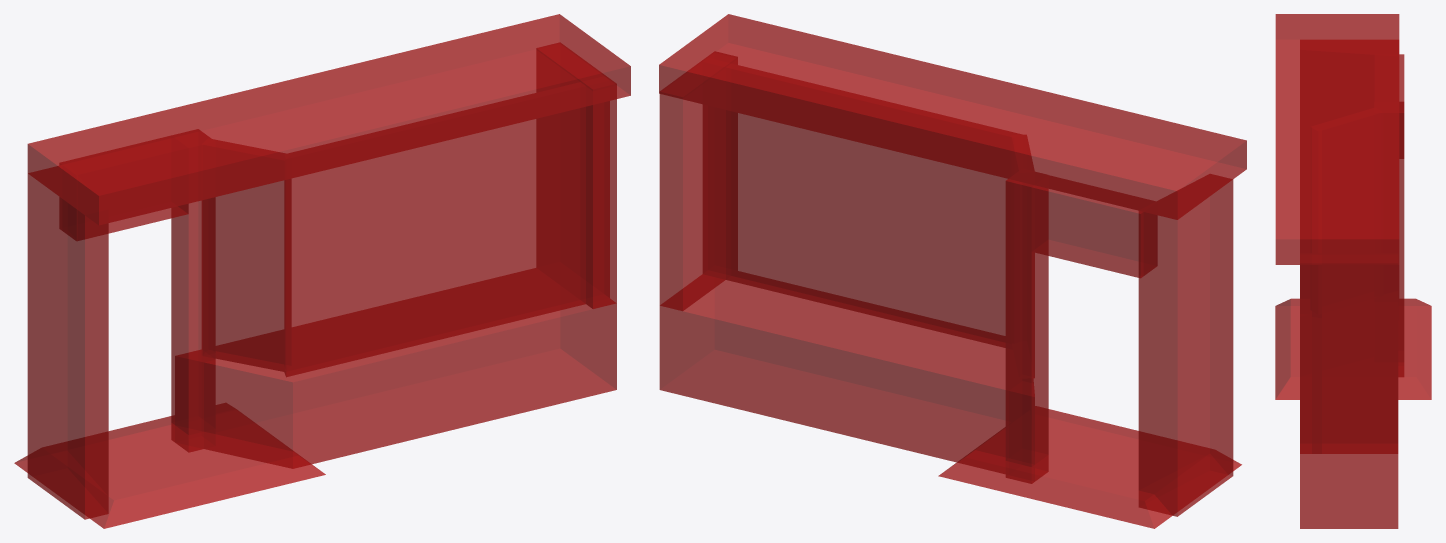
File: SM_Bld_ShopFront_07_Collision.fbx
3 views of the same model, side by side, from view 1: azimuth 30°, elevation 25°; view 2: azimuth 150°, elevation 25°; view 3: azimuth 270°, elevation 25° (orthographic). The views are drawn at different scales.
Visible parts, largest first — view 1: SM_Bld_ShopFront_07_Collision; view 2: SM_Bld_ShopFront_07_Collision; view 3: SM_Bld_ShopFront_07_Collision.
Part boxes in pixels (bbox=[...]): SM_Bld_ShopFront_07_Collision: bbox=[14, 14, 630, 528]; SM_Bld_ShopFront_07_Collision: bbox=[659, 14, 1246, 528]; SM_Bld_ShopFront_07_Collision: bbox=[1275, 14, 1431, 528].
Size of the model in its own units: 500 by 300 by 147.
